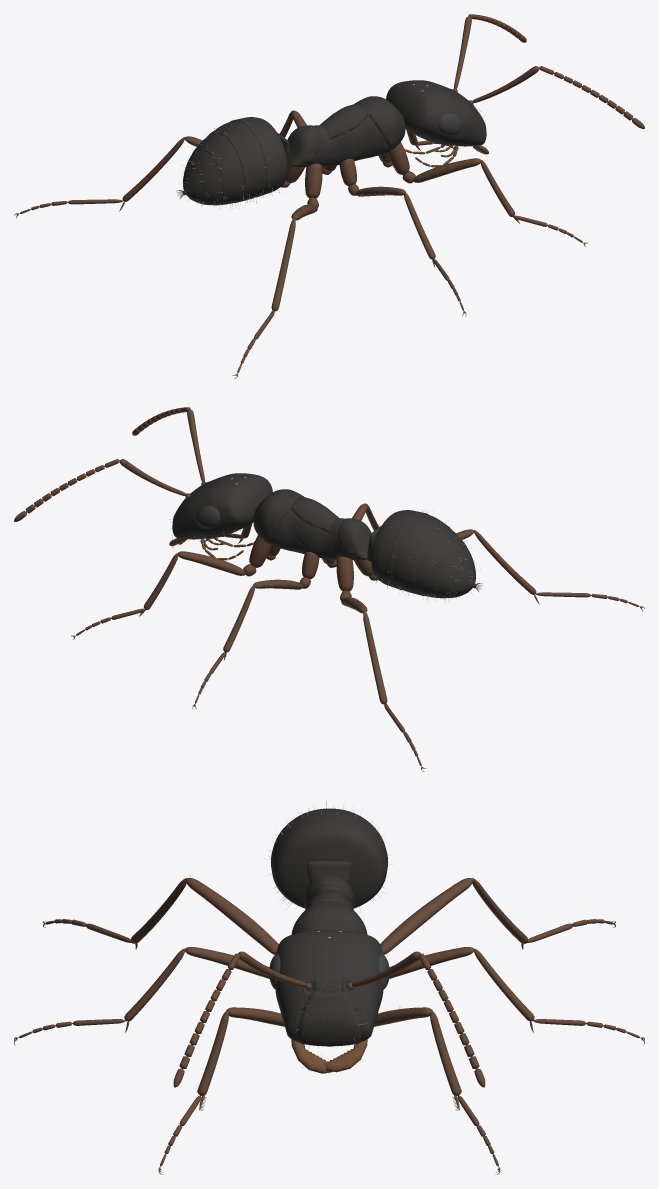
File: formica_lite.glb
The picture shows the model from 3 angles, top to bottom: view 1: azimuth 30°, elevation 25°; view 2: azimuth 150°, elevation 25°; view 3: azimuth 270°, elevation 25°; orthographic projection. The views are drawn at different scales.
Visible parts, largest first — view 1: x-head-capsule, mesosoma, gaster-IV, gaster-V, gaster-III, hl-pronotum, gaster-VI, hl-propodeum, hl-mesonotum, x-tibia-hind_R, funiculus_R, x-femur-fore_R (+3 smaller); view 2: x-head-capsule, mesosoma, gaster-IV, gaster-V, gaster-III, hl-pronotum, gaster-VI, hl-propodeum, hl-mesonotum, x-tibia-hind_L, funiculus_L, x-femur-fore_L (+3 smaller); view 3: x-head-capsule, gaster-III, clypeus, hl-pronotum, x-femur-hind_L, x-femur-hind_R, funiculus_L, funiculus_R, x-tibia-fore_L, x-tibia-fore_R, petiole, x-femur-mid_L (+12 smaller).
Boxes of the visible parts, box(x1,y1,x2,y2) form: x-head-capsule: box(386, 80, 486, 146); mesosoma: box(299, 115, 391, 167); gaster-IV: box(208, 120, 266, 202); gaster-V: box(192, 132, 244, 205); gaster-III: box(230, 117, 287, 197); hl-pronotum: box(355, 96, 405, 149); gaster-VI: box(184, 148, 222, 204); hl-propodeum: box(287, 125, 322, 167); hl-mesonotum: box(320, 104, 367, 139); x-tibia-hind_R: box(271, 217, 295, 311); funiculus_R: box(539, 66, 644, 128); x-femur-fore_R: box(413, 158, 480, 182); x-head-capsule: box(172, 473, 272, 539); mesosoma: box(268, 508, 359, 560); gaster-IV: box(392, 513, 450, 595); gaster-V: box(414, 525, 466, 598); gaster-III: box(371, 510, 428, 590); hl-pronotum: box(253, 489, 303, 542); gaster-VI: box(436, 541, 474, 597); hl-propodeum: box(336, 518, 371, 560); hl-mesonotum: box(291, 497, 338, 532); x-tibia-hind_L: box(363, 610, 387, 704); funiculus_L: box(14, 459, 119, 521); x-femur-fore_L: box(178, 551, 245, 575); x-head-capsule: box(275, 930, 383, 1042); gaster-III: box(270, 813, 388, 908); clypeus: box(297, 991, 361, 1046); hl-pronotum: box(291, 901, 367, 934); x-femur-hind_L: box(380, 877, 472, 954); x-femur-hind_R: box(186, 877, 278, 954); funiculus_L: box(418, 953, 485, 1087); funiculus_R: box(173, 953, 240, 1087); x-tibia-fore_L: box(430, 1010, 461, 1095); x-tibia-fore_R: box(197, 1010, 228, 1095); petiole: box(307, 861, 351, 883); x-femur-mid_L: box(389, 947, 473, 978).
Bounding box in the file's own units: 7.73 × 2.65 × 7.01.
